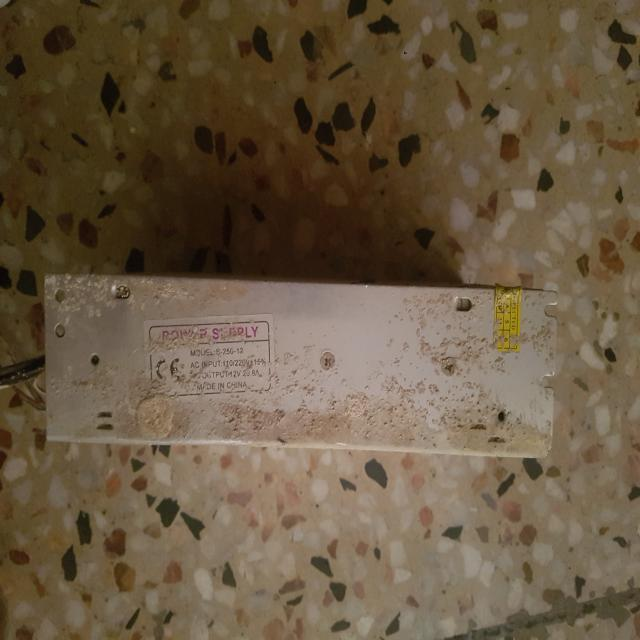electronic: (44, 270, 558, 460)
